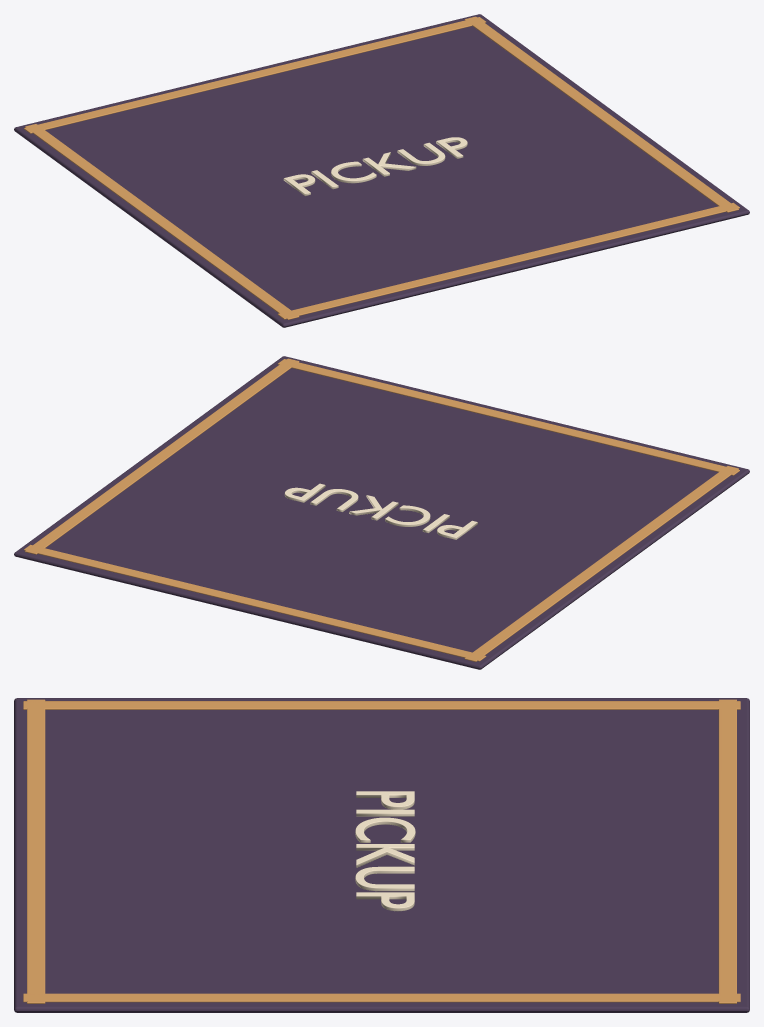
The model's file is Loading_pad.fbx.
The picture shows the model from 3 angles, top to bottom: view 1: azimuth 30°, elevation 25°; view 2: azimuth 150°, elevation 25°; view 3: azimuth 270°, elevation 25°; orthographic projection. The views are drawn at different scales.
Visible parts, largest first — view 1: Toon_Loading_pad Loading mat.001, Toon_Loading_pad Loading border.007, Toon_Loading_pad Loading border.006, Toon_Loading_pad Loading border.004, Toon_Loading_pad Loading border.005, Loading label.001; view 2: Toon_Loading_pad Loading mat.001, Toon_Loading_pad Loading border.006, Toon_Loading_pad Loading border.007, Toon_Loading_pad Loading border.005, Toon_Loading_pad Loading border.004, Loading label.001; view 3: Toon_Loading_pad Loading mat.001, Toon_Loading_pad Loading border.005, Toon_Loading_pad Loading border.004, Toon_Loading_pad Loading border.007, Toon_Loading_pad Loading border.006, Loading label.001.
Part boxes in pixels (x1=…): Toon_Loading_pad Loading mat.001: x1=14, y1=14, x2=749, y2=327; Toon_Loading_pad Loading border.007: x1=24, y1=17, x2=486, y2=133; Toon_Loading_pad Loading border.006: x1=277, y1=202, x2=739, y2=319; Toon_Loading_pad Loading border.004: x1=25, y1=124, x2=299, y2=319; Toon_Loading_pad Loading border.005: x1=464, y1=16, x2=738, y2=212; Loading label.001: x1=283, y1=137, x2=467, y2=195; Toon_Loading_pad Loading mat.001: x1=14, y1=356, x2=749, y2=669; Toon_Loading_pad Loading border.006: x1=277, y1=359, x2=739, y2=475; Toon_Loading_pad Loading border.007: x1=24, y1=544, x2=486, y2=661; Toon_Loading_pad Loading border.005: x1=25, y1=358, x2=299, y2=554; Toon_Loading_pad Loading border.004: x1=464, y1=466, x2=738, y2=661; Loading label.001: x1=284, y1=483, x2=477, y2=539; Toon_Loading_pad Loading mat.001: x1=14, y1=698, x2=749, y2=1012; Toon_Loading_pad Loading border.005: x1=23, y1=993, x2=740, y2=1002; Toon_Loading_pad Loading border.004: x1=23, y1=701, x2=740, y2=709; Toon_Loading_pad Loading border.007: x1=718, y1=699, x2=736, y2=1003; Toon_Loading_pad Loading border.006: x1=27, y1=699, x2=45, y2=1003; Loading label.001: x1=355, y1=791, x2=415, y2=911.
Bounding box in the file's own units: 200 × 3.01 × 200.
